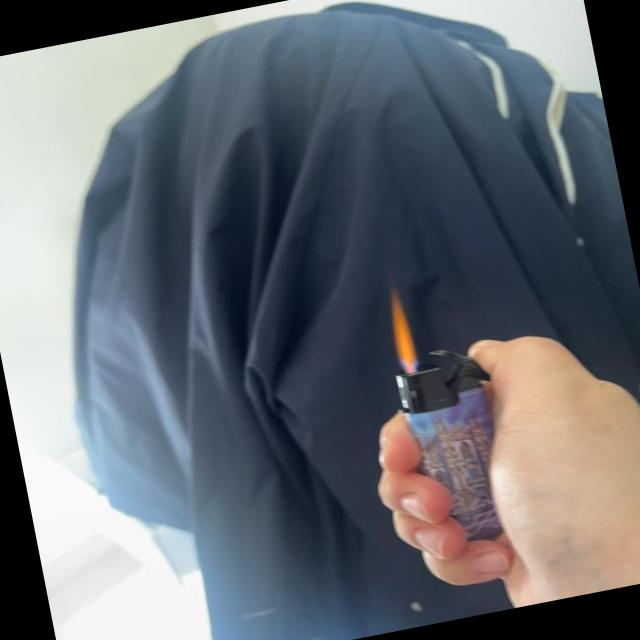Fire: (386, 292, 422, 372)
